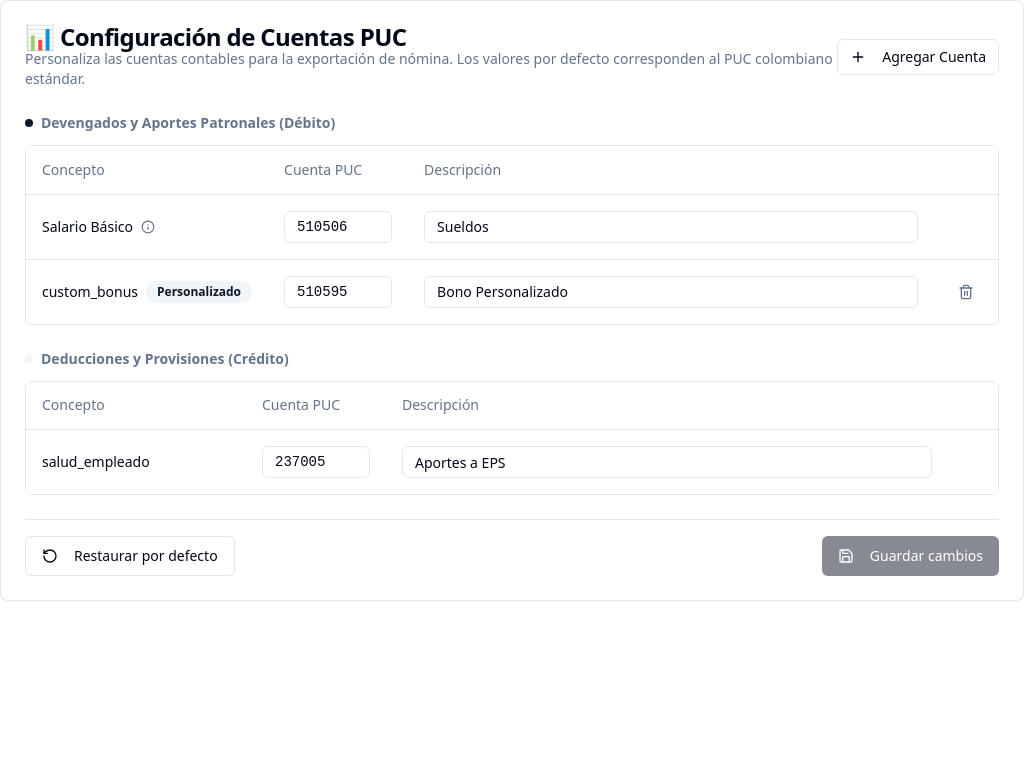
PUCMappingEditor › should validate PUC account format in new mapping form
Click the button "Agregar Cuenta" at (918, 57), box [837,39,999,75]
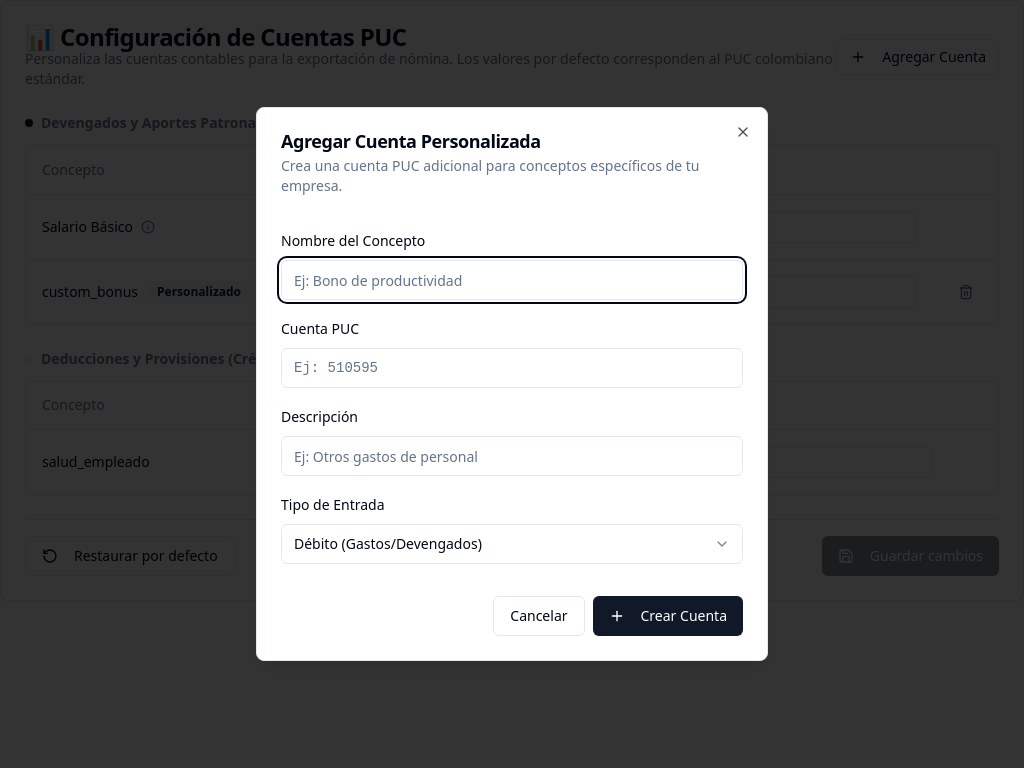
Type "abc" into the field labelled "Cuenta PUC" at (512, 368), box [281,348,743,388]
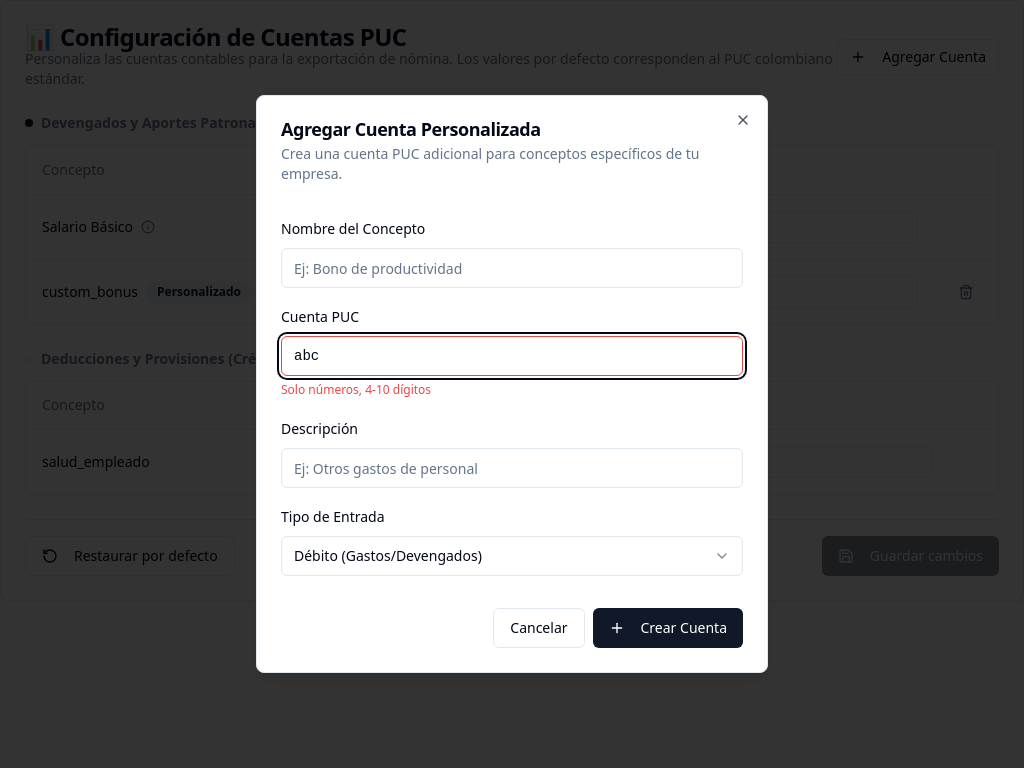
Expected: the text "Solo números, 4-10 dígitos" is shown, [281,381,431,398]
